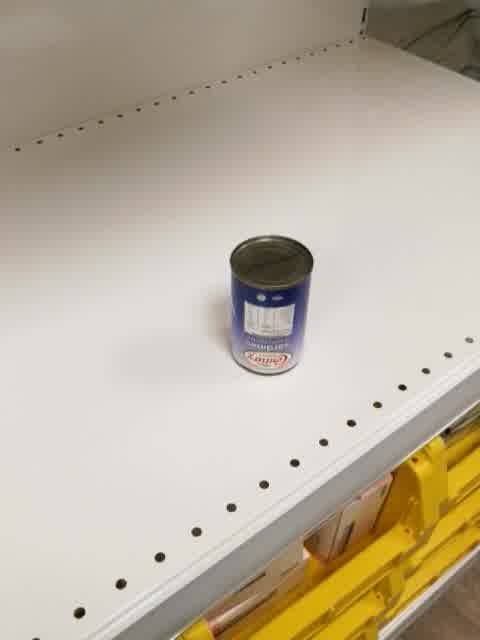sardine: (228, 235, 316, 378)
